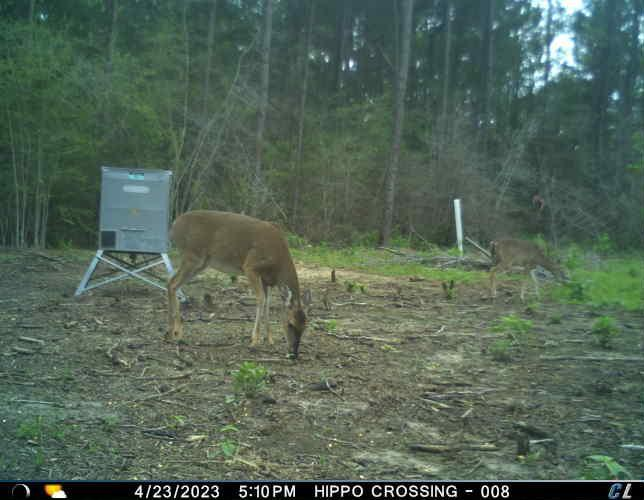Deer: (161, 205, 314, 358), (488, 235, 572, 306)
